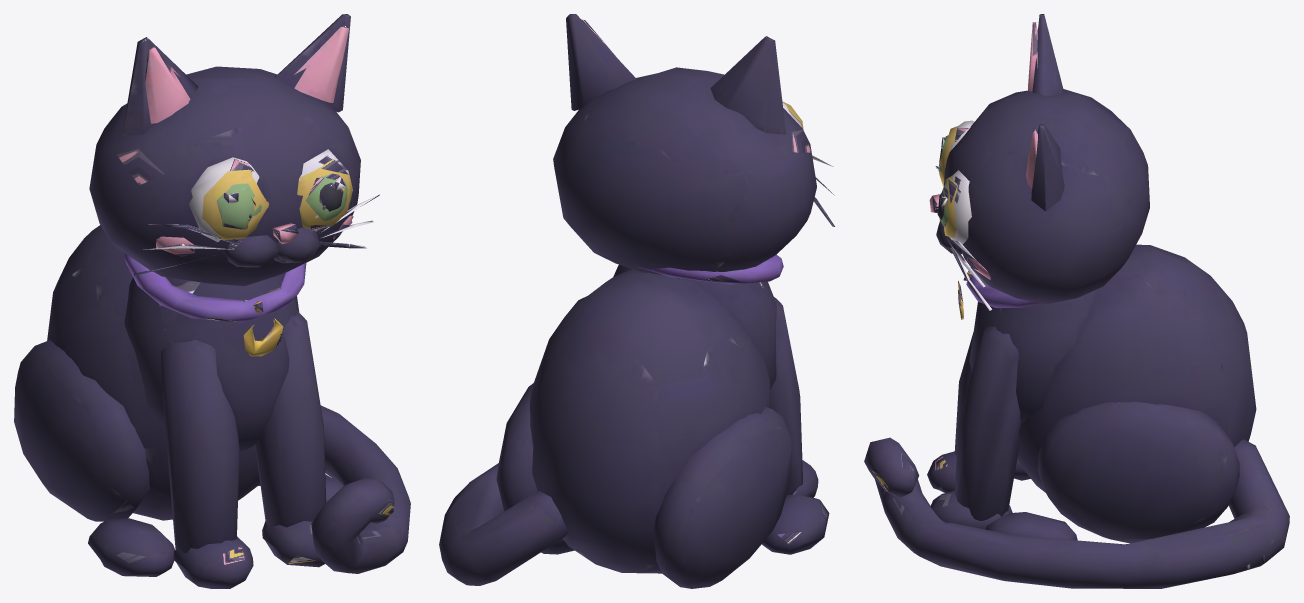
The model's file is black-cat.glb.
3 renders of one model, left to right at view 1: azimuth 30°, elevation 25°; view 2: azimuth 150°, elevation 25°; view 3: azimuth 270°, elevation 25°, orthographic. The views are drawn at different scales.
Visible parts, largest first — view 1: black-cat_body; view 2: black-cat_body; view 3: black-cat_body.
Part boxes in pixels (x1,y1,x2,y2): black-cat_body: (14,14,410,588); black-cat_body: (439,14,834,588); black-cat_body: (864,14,1289,588).
Bounding box in the file's own units: 0.2052 × 0.3253 × 0.2672.
1 material, 1 textured.
